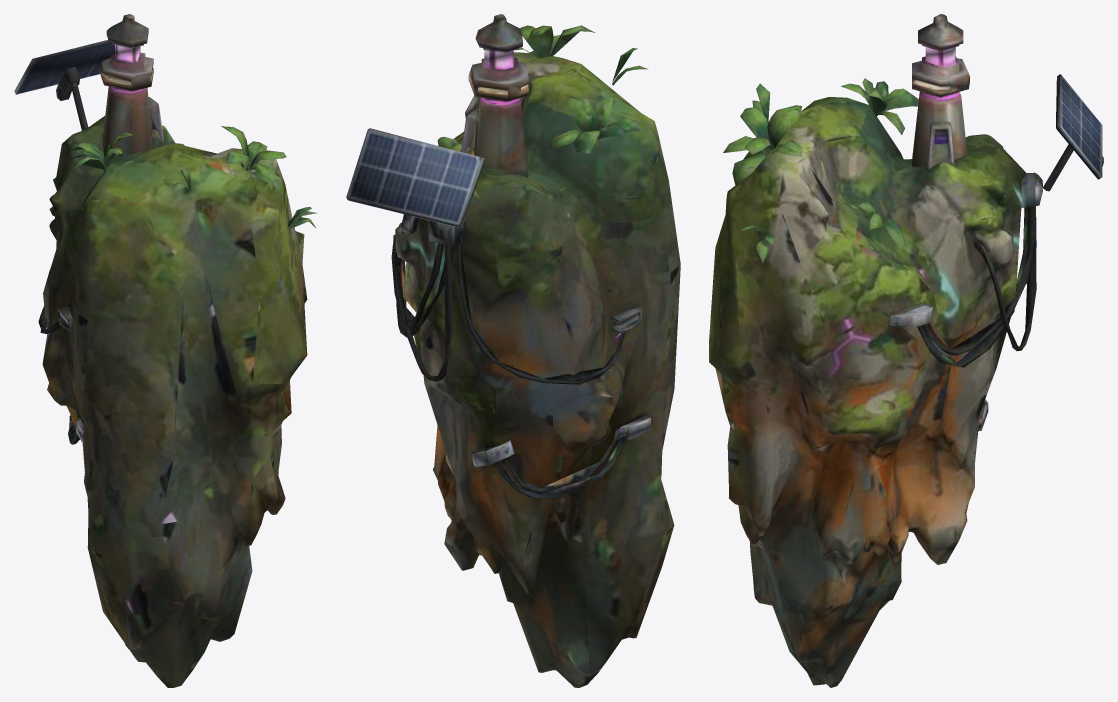
The model's file is karst_sea_stack.glb.
3 renders of one model, left to right at view 1: azimuth 30°, elevation 25°; view 2: azimuth 150°, elevation 25°; view 3: azimuth 270°, elevation 25°, orthographic. The views are drawn at different scales.
Parts seen in each view (by area): view 1: Body; view 2: Body; view 3: Body.
Boxes of the visible parts, x1,y1,x2,y2 form: Body: [14, 14, 317, 687]; Body: [346, 14, 680, 687]; Body: [709, 14, 1103, 687].
Size of the model in its own units: 13.54 by 37.43 by 19.85.
Materials: 1 (1 with a texture image).
